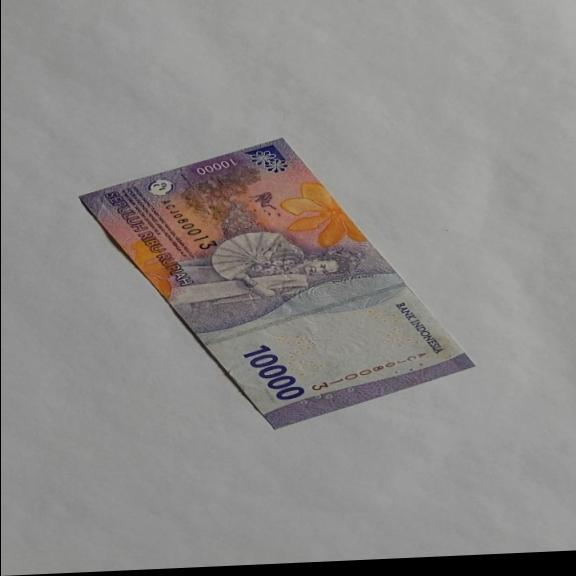Kertas: (78, 127, 478, 439), (242, 342, 306, 403)
